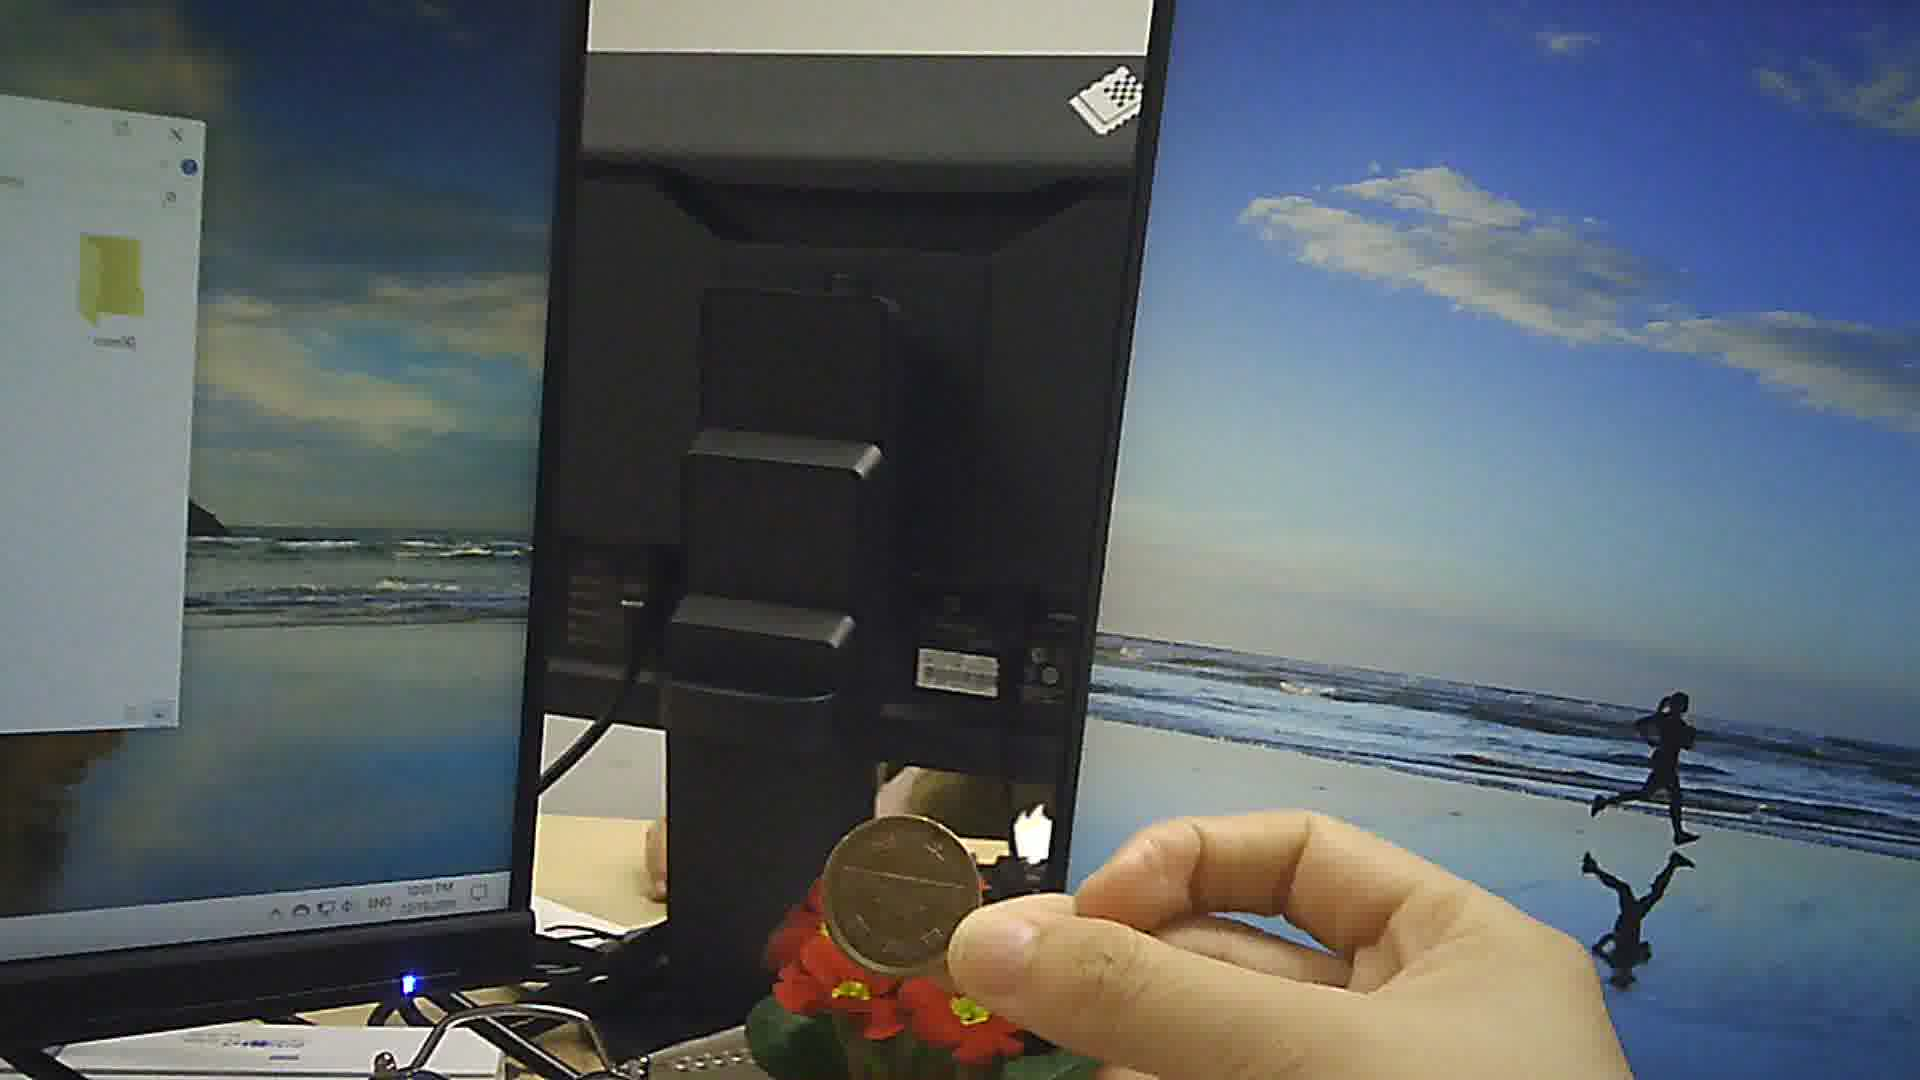10 Yen: (814, 804, 988, 982)
